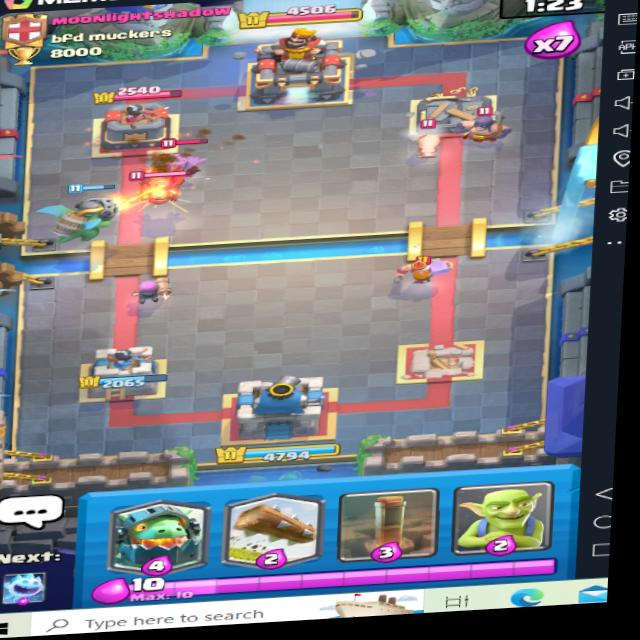executioner: (452, 102, 513, 147)
lava-hound: (110, 167, 208, 212)
lumberjack: (391, 251, 458, 289)
mother-witch: (156, 137, 207, 182)
pig: (410, 117, 448, 163)
